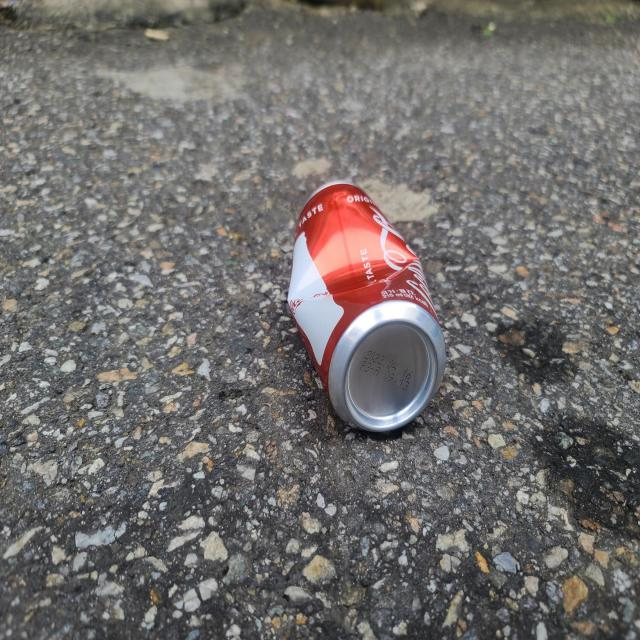can: (288, 180, 447, 432)
